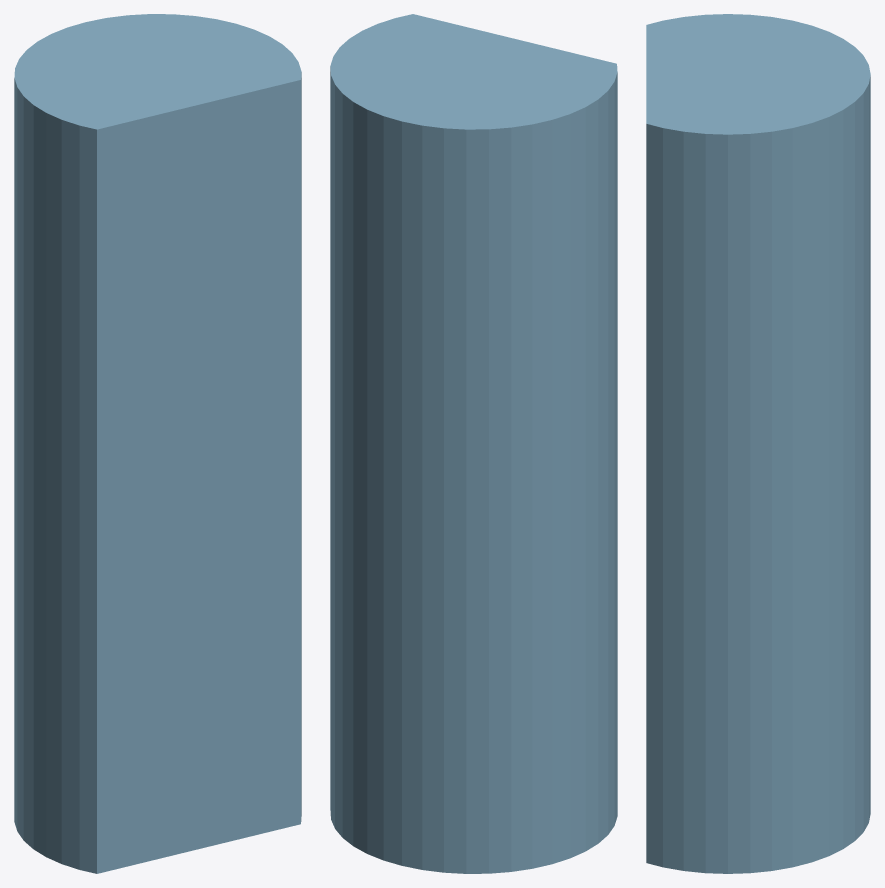
3 renders of one model, left to right at view 1: azimuth 30°, elevation 25°; view 2: azimuth 150°, elevation 25°; view 3: azimuth 270°, elevation 25°, orthographic.
Parts seen in each view (by area): view 1: geometry_0; view 2: geometry_0; view 3: geometry_0.
Part boxes in pixels (left/top/right/bottom): geometry_0: left=14, top=14, right=301, bottom=873; geometry_0: left=330, top=14, right=617, bottom=873; geometry_0: left=646, top=14, right=870, bottom=873.
Bounding box in the file's own units: 7 × 20 × 5.5.
